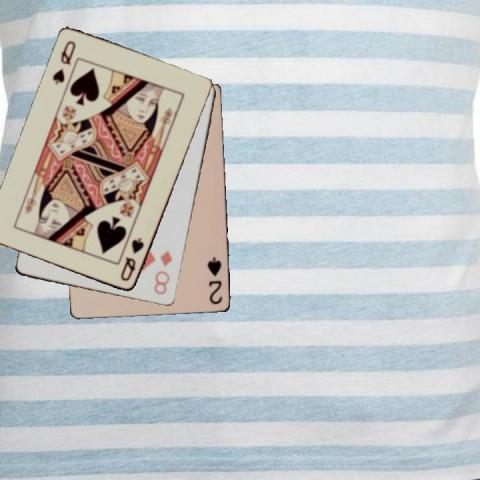2s: (205, 254, 224, 306)
8d: (151, 248, 174, 297)
Qs: (117, 236, 146, 284), (50, 38, 78, 85)
